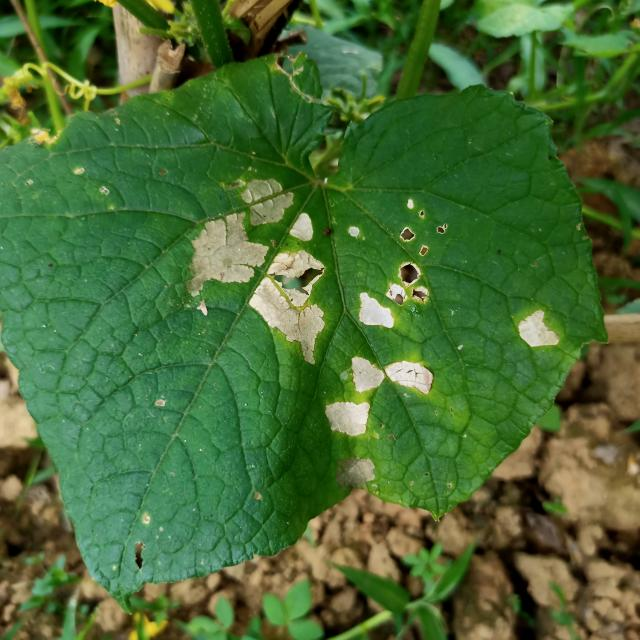disease_cucumber: (180, 166, 332, 376), (342, 191, 450, 338), (320, 352, 437, 441), (510, 299, 563, 360)
